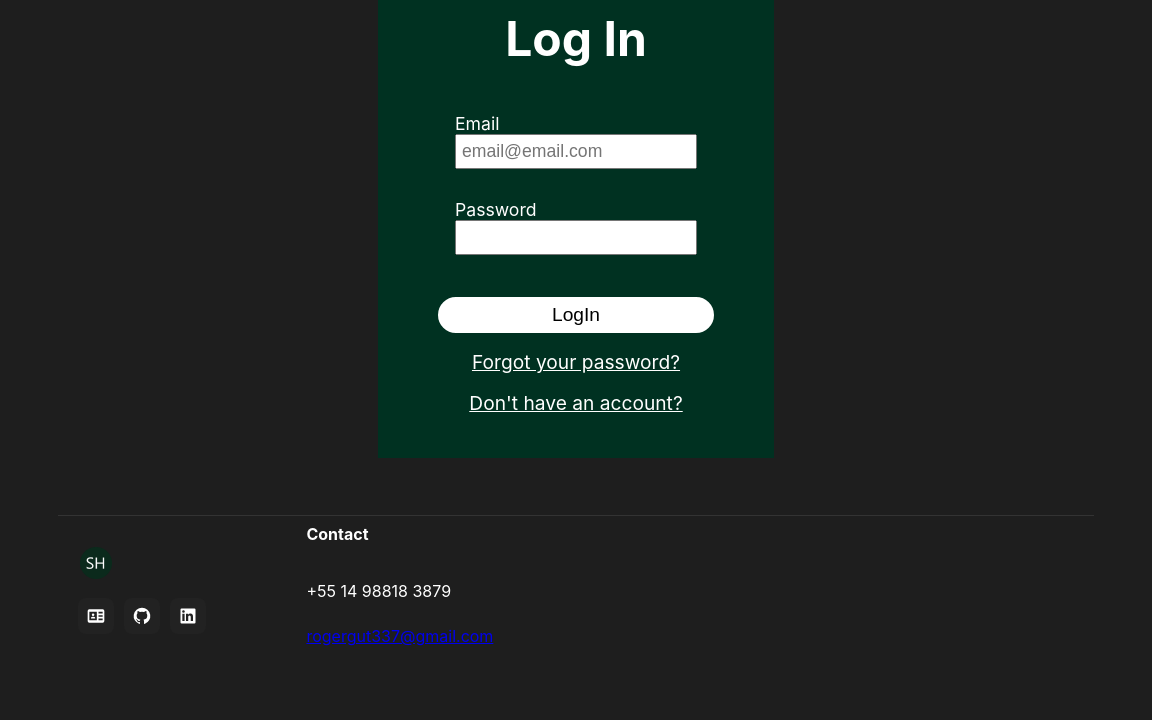
Test: LoginPage › Should switch pages
The image size is (1152, 720).
(page scrolled)
Click the link "Don't have an account?" at (576, 404), box [469,392,683,416]
(page scrolled)
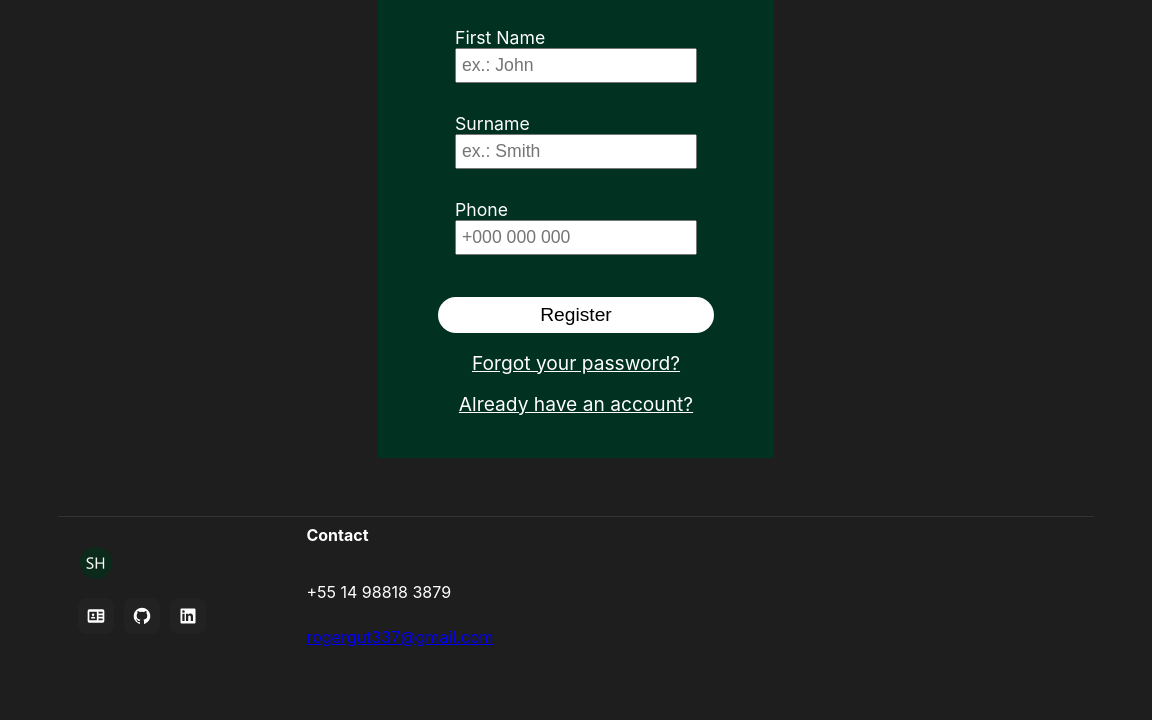
Now the link "Already have an account?" is shown
Now the link "Don't have an account?" is gone
Click the link "Already have an account?" at (576, 404), box [459,392,693,416]
(page scrolled)
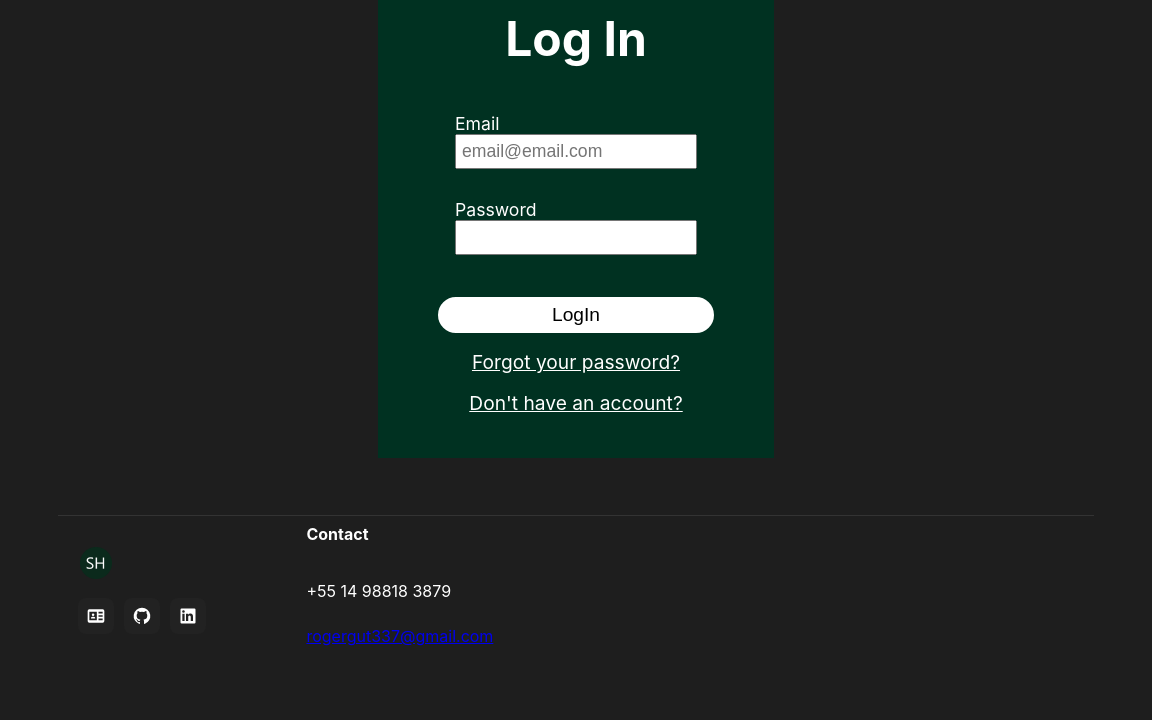
Now the link "Already have an account?" is gone
Now the link "Don't have an account?" is shown, box [469,392,683,416]
